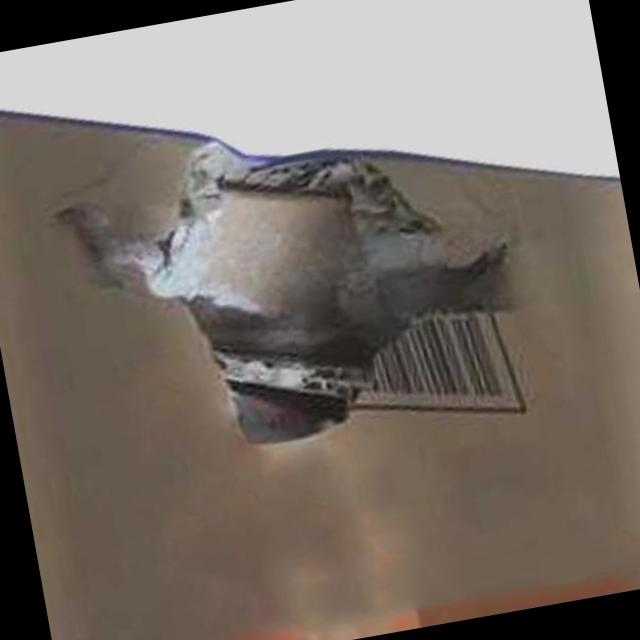box: (50, 143, 598, 497)
normal_hole: (83, 282, 132, 371)
